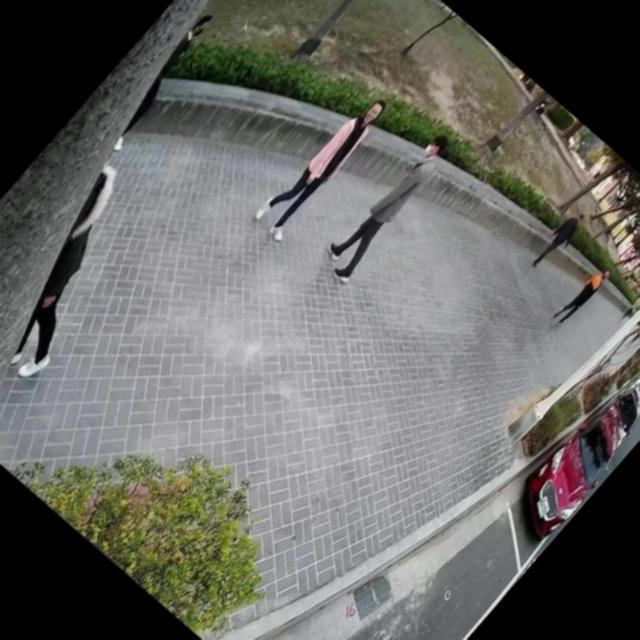person: (0, 145, 185, 392), (245, 80, 400, 250), (312, 120, 464, 286), (94, 6, 230, 156), (546, 256, 618, 335), (524, 202, 592, 276), (619, 292, 640, 322)
